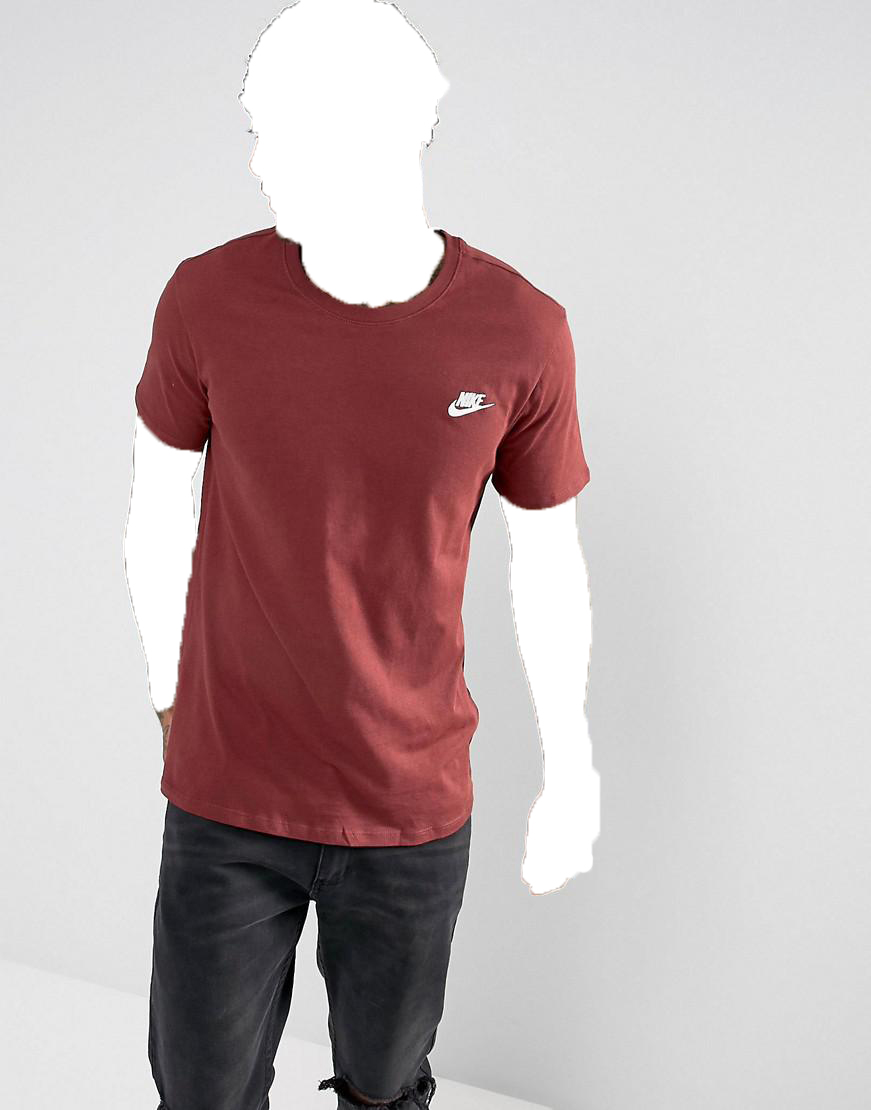teeshirt: (120, 217, 590, 881)
